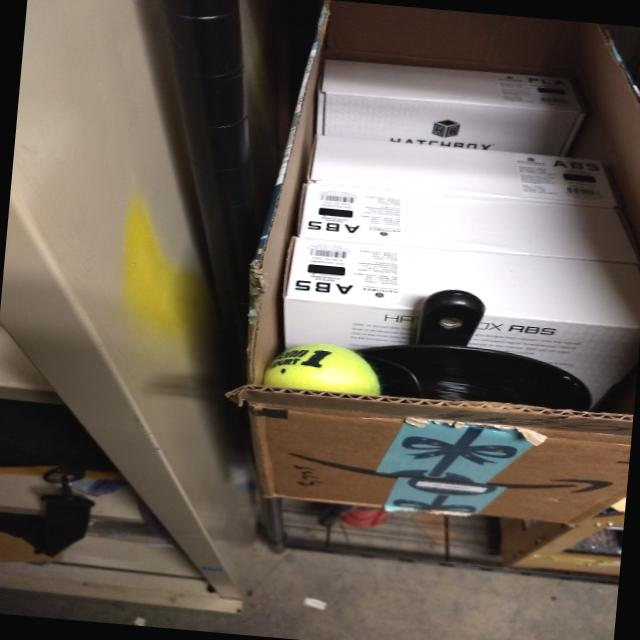tennis-ball: (261, 338, 390, 400)
